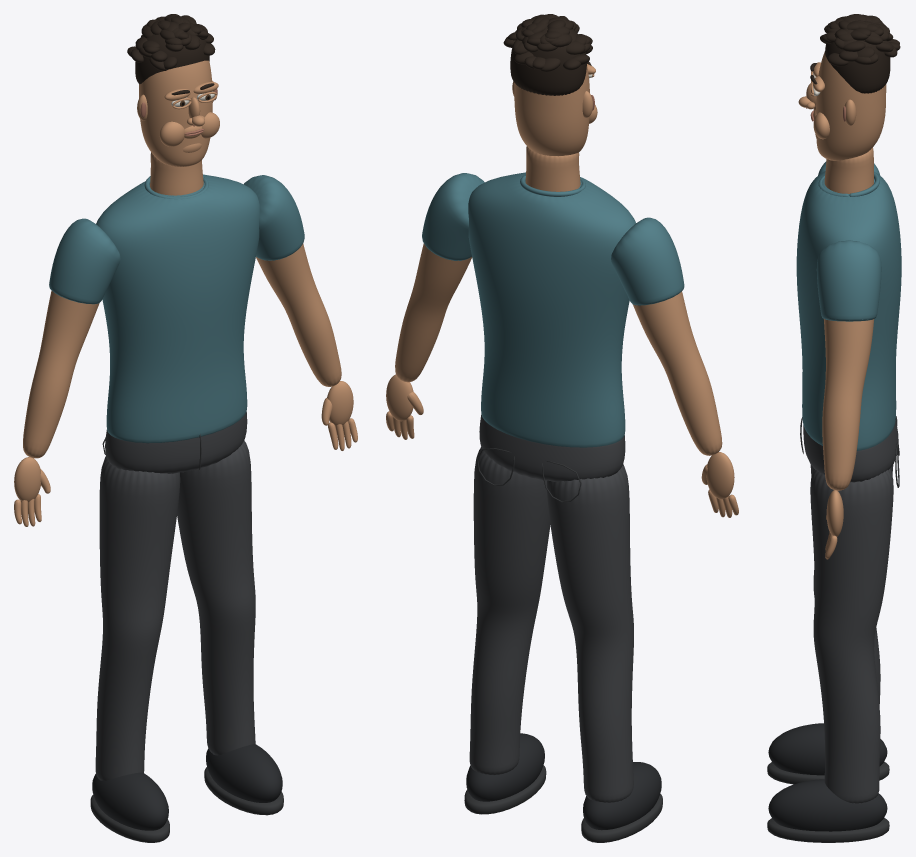
3 renders of one model, left to right at view 1: azimuth 30°, elevation 25°; view 2: azimuth 150°, elevation 25°; view 3: azimuth 270°, elevation 25°, orthographic. The views are drawn at different scales.
Visible parts, largest first — view 1: Fitted T shirt torso, Right trouser leg, Left trouser leg, Right exposed arm, Left exposed arm, Right shirt sleeve, Head sculpt, Trouser pelvis, Right shoe upper, Left shirt sleeve, Left shoe upper, Neck (+5 smaller); view 2: Fitted T shirt torso, Right trouser leg, Left trouser leg, Right exposed arm, Left exposed arm, Trouser pelvis, Right shirt sleeve, Head sculpt, Left shirt sleeve, Right shoe upper, Left shoe upper, Hair cap (+5 smaller); view 3: Left trouser leg, Fitted T shirt torso, Left exposed arm, Left shirt sleeve, Head sculpt, Left shoe upper, Right shoe upper, Trouser pelvis, Neck, Hair cap, Left shoe sole, Right shoe sole (+4 smaller).
Part boxes in pixels (<box>): Fitted T shirt torso: <box>96,174,259,443</box>; Right trouser leg: <box>95,456,180,780</box>; Left trouser leg: <box>177,440,255,755</box>; Right exposed arm: <box>23,290,99,458</box>; Left exposed arm: <box>256,243,341,386</box>; Right shirt sleeve: <box>49,218,120,303</box>; Head sculpt: <box>139,60,212,166</box>; Trouser pelvis: <box>105,412,247,473</box>; Right shoe upper: <box>92,772,168,830</box>; Left shirt sleeve: <box>243,175,304,260</box>; Left shoe upper: <box>206,744,282,802</box>; Neck: <box>150,152,203,195</box>; Fitted T shirt torso: <box>468,172,635,447</box>; Right trouser leg: <box>547,464,633,802</box>; Left trouser leg: <box>469,447,550,775</box>; Right exposed arm: <box>633,291,722,455</box>; Left exposed arm: <box>395,243,472,382</box>; Trouser pelvis: <box>479,414,625,481</box>; Right shirt sleeve: <box>611,217,684,305</box>; Head sculpt: <box>514,65,589,156</box>; Left shirt sleeve: <box>422,173,484,260</box>; Right shoe upper: <box>583,762,661,830</box>; Left shoe upper: <box>466,733,544,801</box>; Hair cap: <box>510,27,586,95</box>; Left trouser leg: <box>810,468,893,803</box>; Fitted T shirt torso: <box>796,171,901,450</box>; Left exposed arm: <box>822,319,874,490</box>; Left shirt sleeve: <box>816,240,881,321</box>; Head sculpt: <box>816,51,886,160</box>; Left shoe upper: <box>768,779,887,831</box>; Right shoe upper: <box>768,723,887,775</box>; Trouser pelvis: <box>803,420,898,482</box>; Neck: <box>824,147,873,193</box>; Hair cap: <box>825,40,890,93</box>; Left shoe sole: <box>767,817,889,842</box>; Right shoe sole: <box>767,761,889,784</box>.
Size of the model in its own units: 0.883 by 1.93 by 0.2979.
